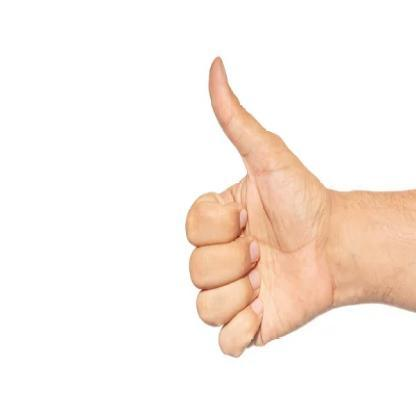thumb_up: (182, 45, 336, 361)
